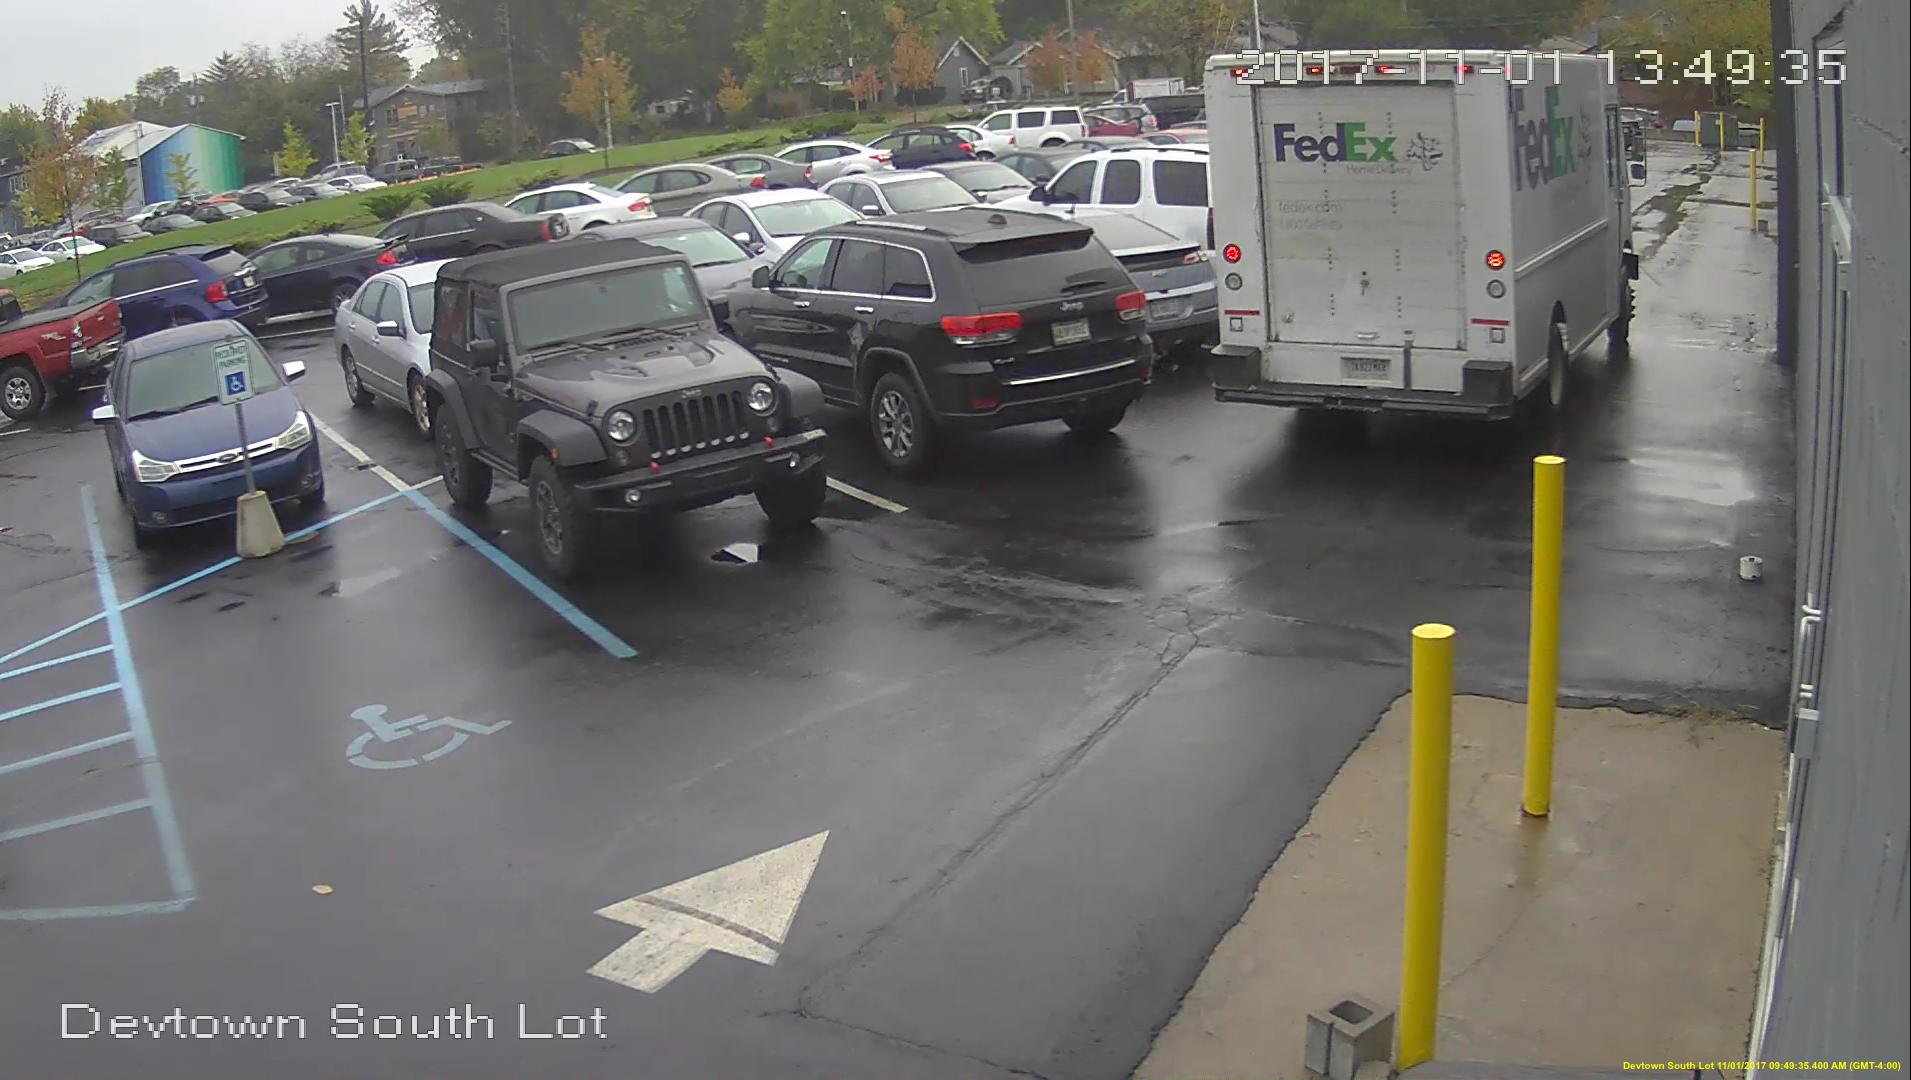fedex_truck: (1205, 51, 1647, 421)
